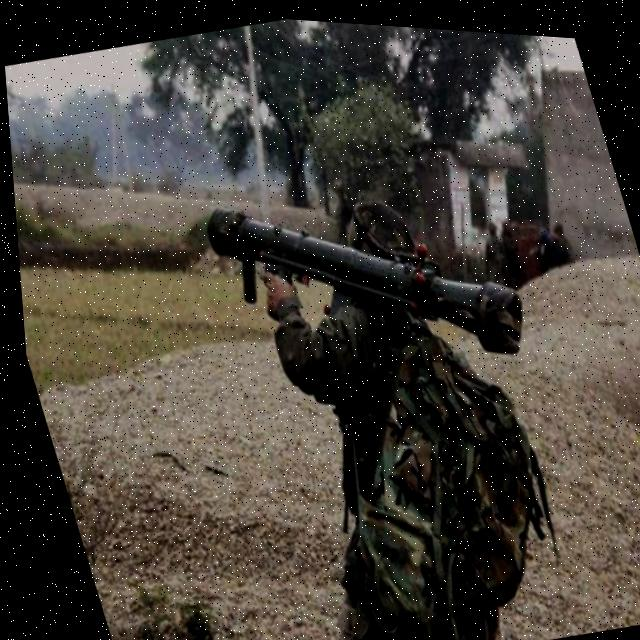rocket: (167, 125, 555, 421)
